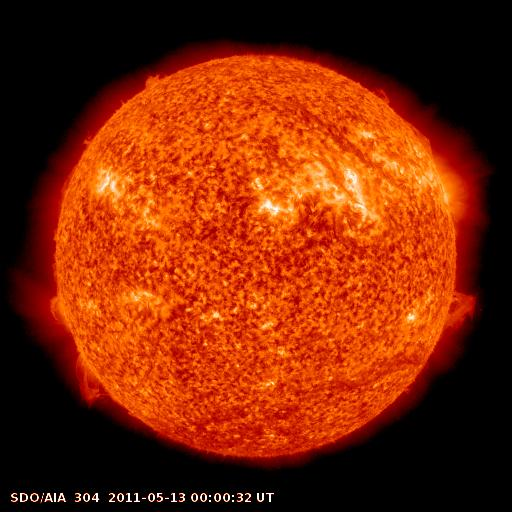prominence: (430, 281, 487, 342), (68, 351, 116, 410), (398, 115, 441, 168), (43, 290, 76, 335), (54, 151, 81, 202), (137, 64, 180, 94), (369, 79, 395, 110)
